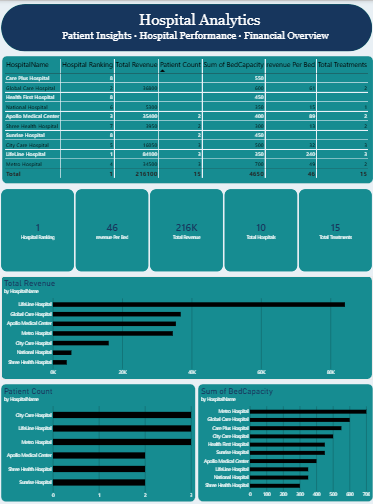

What the dashboard file says about the page in this screenshot:
{"tool":"powerbi","page":{"name":"Hospital Performance","canvas":[2220,2980],"ordinal":6},"visuals":[{"type":"shape","box":[20,15,2184.2,280],"z":0},{"type":"textbox","box":[830,56.7,716.7,100],"z":1},{"type":"textbox","box":[376.7,173.3,1571.7,85],"z":2},{"type":"cardVisual","fields":{"Data":["Medical Transactions.Hospital Ranking","Medical Transactions.revenue Per Bed","Medical Transactions.Total Revenue","Medical Transactions.Total Hospitals","Medical Transactions.Total Treatments"]},"box":[20,1105,2183.3,486.7],"z":3},{"type":"clusteredBarChart","fields":{"Category":["Hospitals.HospitalName"],"Y":["Medical Transactions.Total Revenue"]},"box":[20,1620,2183.3,606.7],"z":4},{"type":"clusteredBarChart","fields":{"Category":["Hospitals.HospitalName"],"Y":["Medical Transactions.Patient Count"]},"box":[20,2253.3,1143.3,693.3],"z":5},{"type":"clusteredBarChart","fields":{"Category":["Hospitals.HospitalName"],"Y":["Sum(Hospitals.BedCapacity)"]},"box":[1175,2254.2,1029.2,691.7],"z":6},{"type":"tableEx","fields":{"Values":["Hospitals.HospitalName","Medical Transactions.Hospital Ranking","Medical Transactions.Total Revenue","Medical Transactions.Patient Count","Sum(Hospitals.BedCapacity)","Medical Transactions.revenue Per Bed","Medical Transactions.Total Treatments"]},"box":[20.8,325,2183.3,750],"z":7}]}

Visuals, with their boxes in screenshot pixels (x1, y1, x2, y2), scaled from the page's 2220x2980 canvas onto the 373x504 screenshot:
shape: pyautogui.locateOnScreen(3, 3, 370, 50)
textbox: pyautogui.locateOnScreen(139, 10, 260, 27)
textbox: pyautogui.locateOnScreen(63, 29, 327, 44)
cardVisual - Medical Transactions.Hospital Ranking x Medical Transactions.revenue Per Bed: pyautogui.locateOnScreen(3, 187, 370, 269)
clusteredBarChart - Hospitals.HospitalName x Medical Transactions.Total Revenue: pyautogui.locateOnScreen(3, 274, 370, 377)
clusteredBarChart - Hospitals.HospitalName x Medical Transactions.Patient Count: pyautogui.locateOnScreen(3, 381, 195, 498)
clusteredBarChart - Hospitals.HospitalName x Sum(Hospitals.BedCapacity): pyautogui.locateOnScreen(197, 381, 370, 498)
tableEx - Hospitals.HospitalName x Medical Transactions.Hospital Ranking: pyautogui.locateOnScreen(3, 55, 370, 182)
